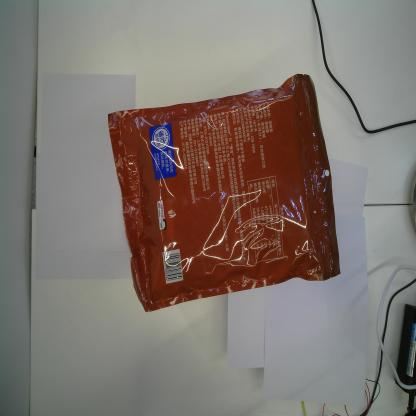Dried Food: (107, 72, 341, 313)
